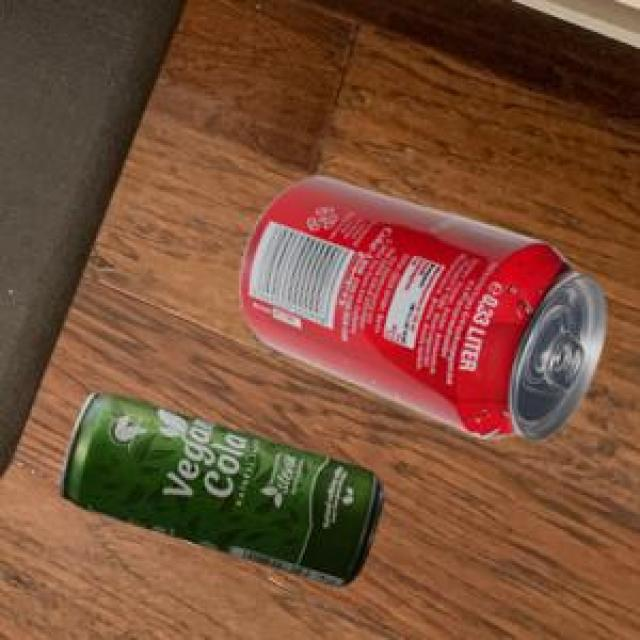logam: (236, 174, 603, 436), (57, 389, 381, 583)
